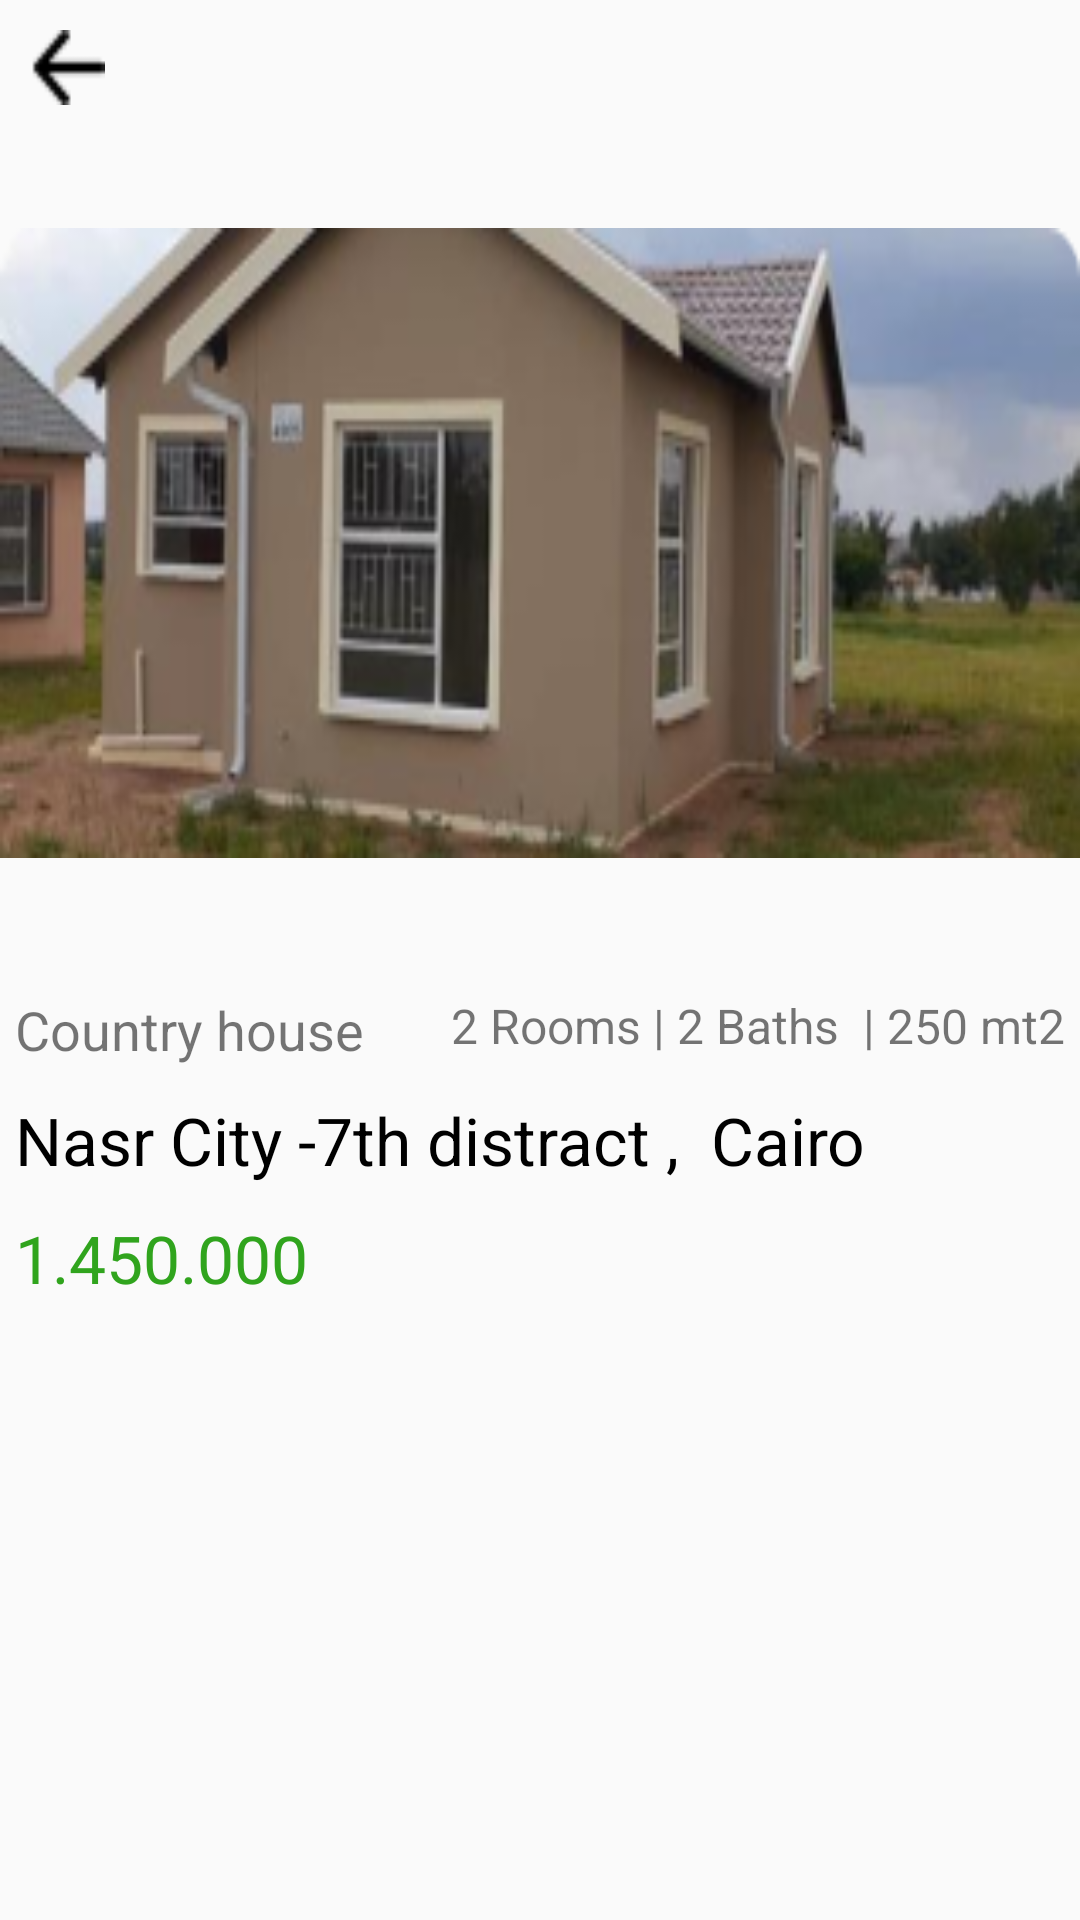

Icon bounding boxes for this 1080×1920 phone screenshot, format (x1, y1, x2, y2):
back arrow: (32, 30, 105, 105)
